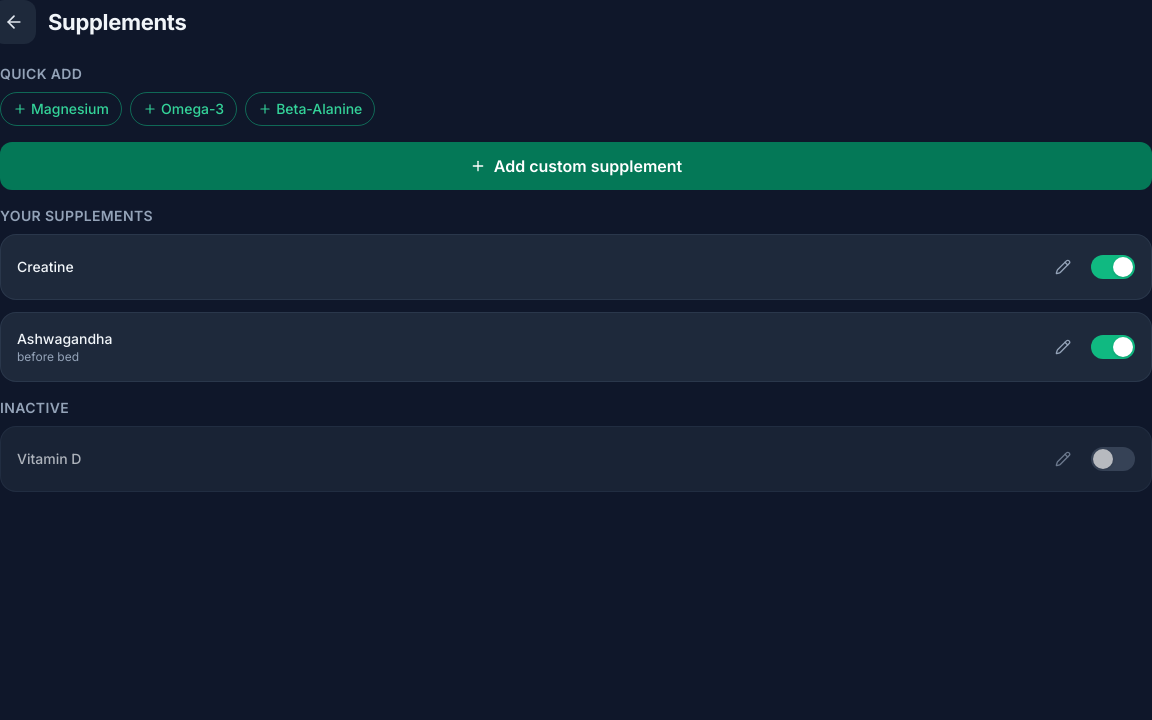
Scenario: guarded delete › cancelling the confirmation keeps the custom supplement
Click the button named "Edit Ashwagandha": (1063, 347) left=1047, top=331, right=1079, bottom=363
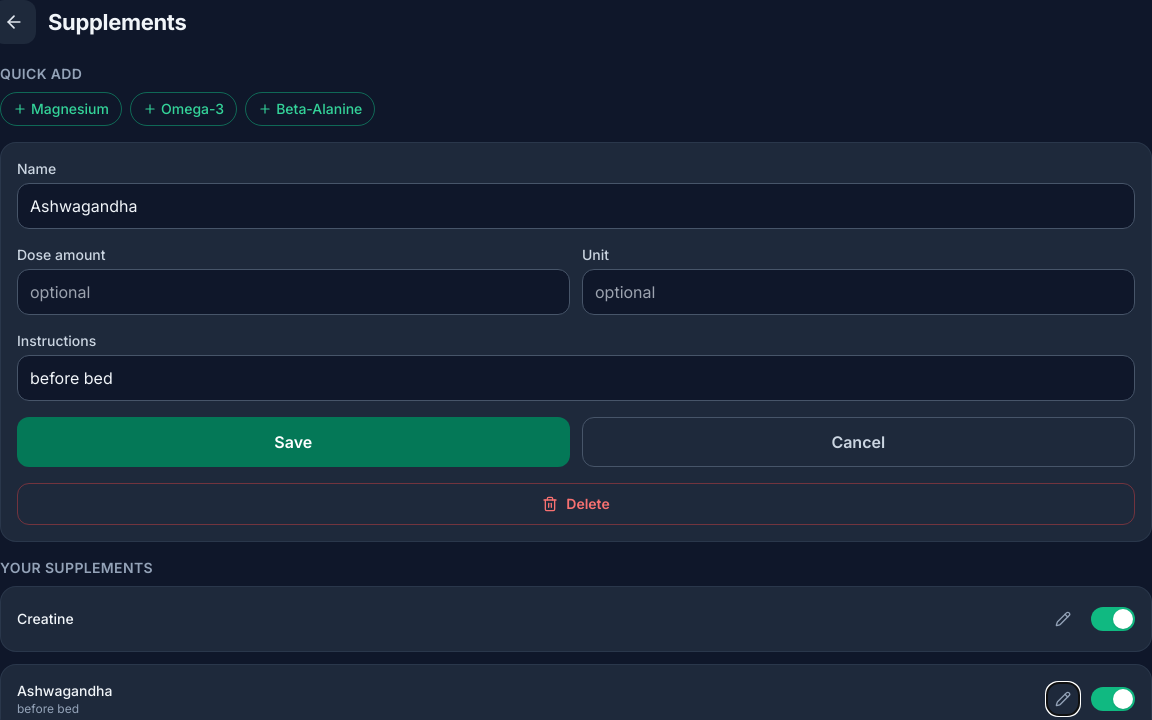
Click the button "Delete": (576, 504) left=17, top=483, right=1135, bottom=525
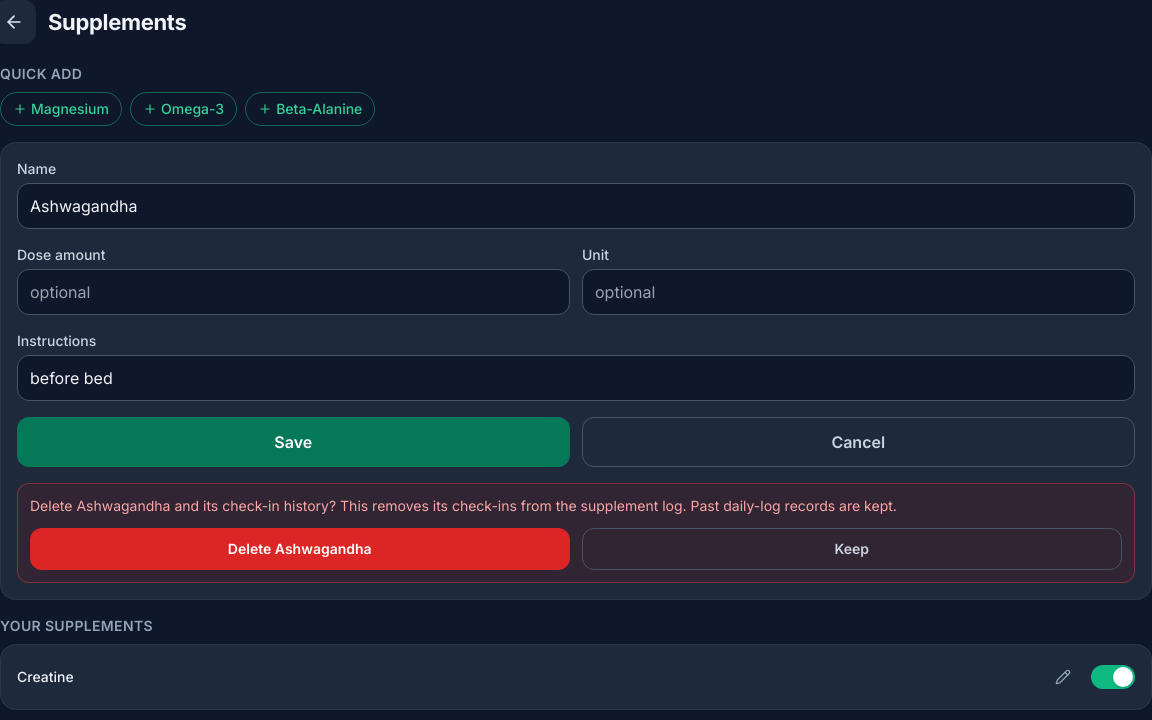
Click the button "Keep": (852, 549) left=582, top=528, right=1122, bottom=570
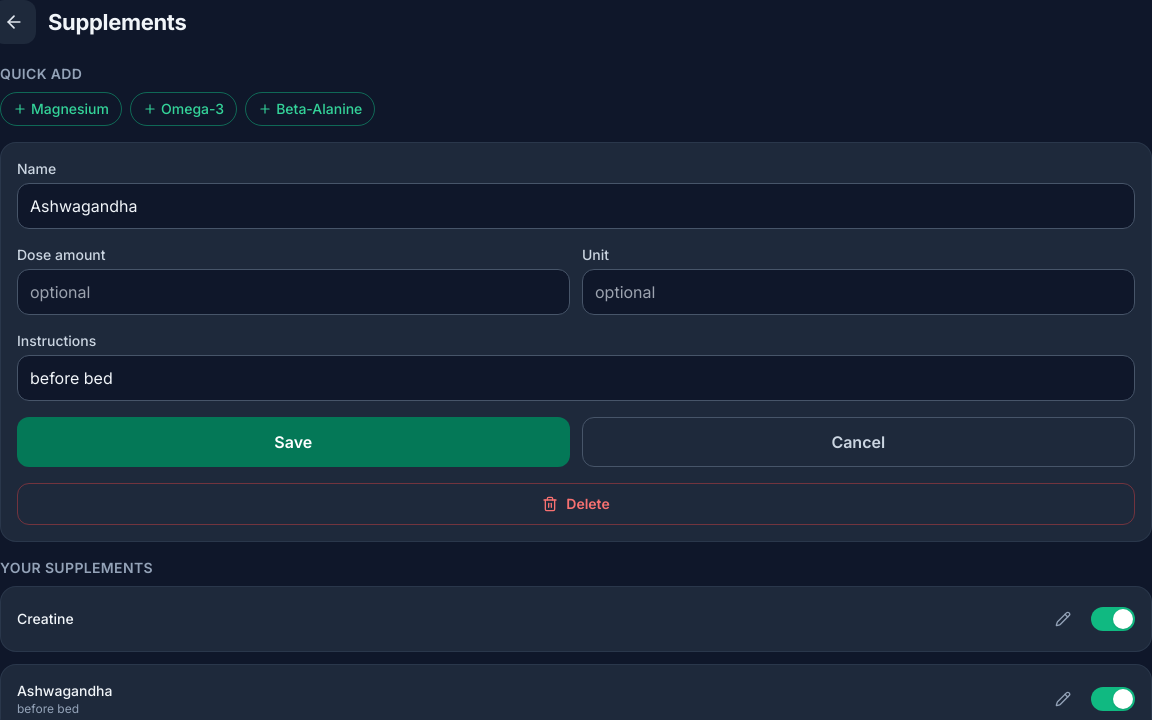
Result: the dialog is gone
